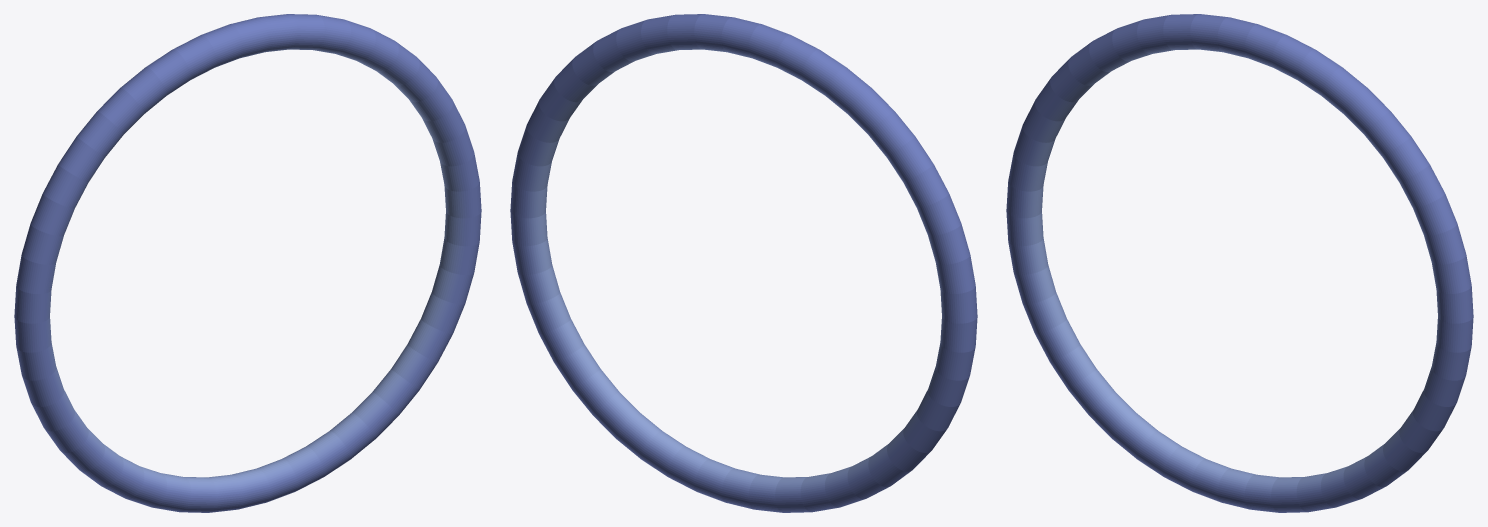
3 renders of one model, left to right at view 1: azimuth 30°, elevation 25°; view 2: azimuth 150°, elevation 25°; view 3: azimuth 330°, elevation 25°, orthographic.
Visible parts, largest first — view 1: world; view 2: world; view 3: world.
Boxes of the visible parts, box(x1,y1,x2,y2) form: world: box(14, 14, 481, 512); world: box(510, 14, 977, 512); world: box(1006, 14, 1473, 512).
Size of the model in its own units: 30 by 29.94 by 2.
